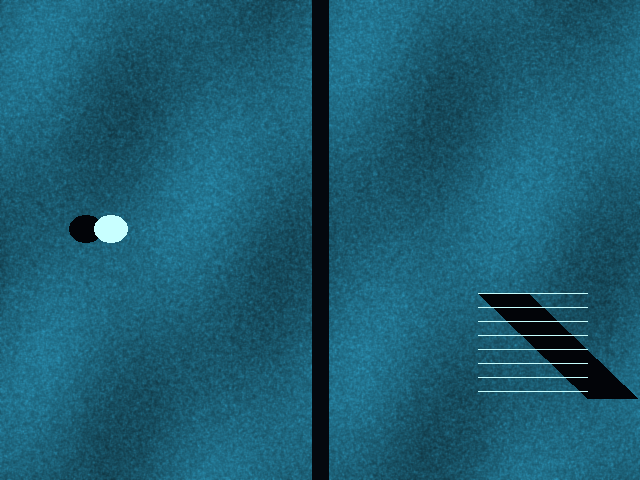Bottle: (94, 215, 127, 242)
Fishing Net: (478, 293, 587, 398)
